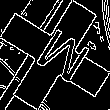M_SW: (22, 22, 88, 88)
